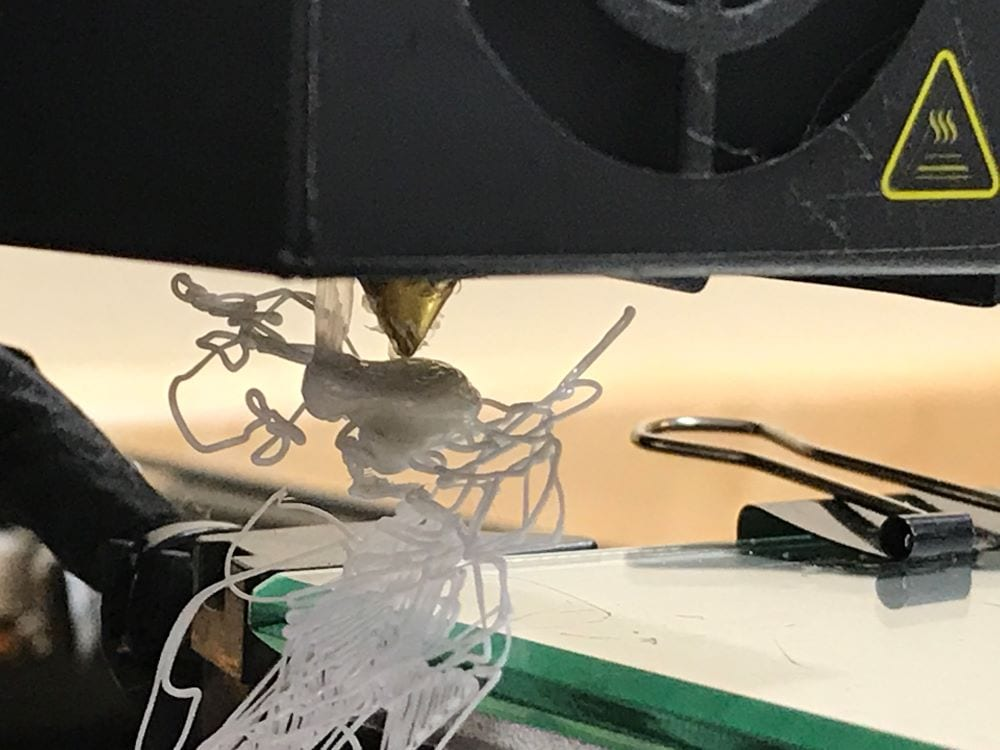Fail: (95, 273, 618, 750)
